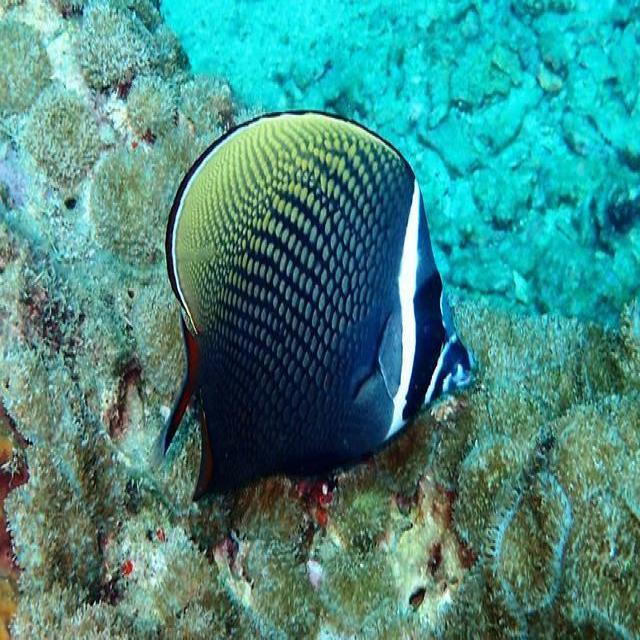ButterflyFish: (166, 114, 473, 491)
